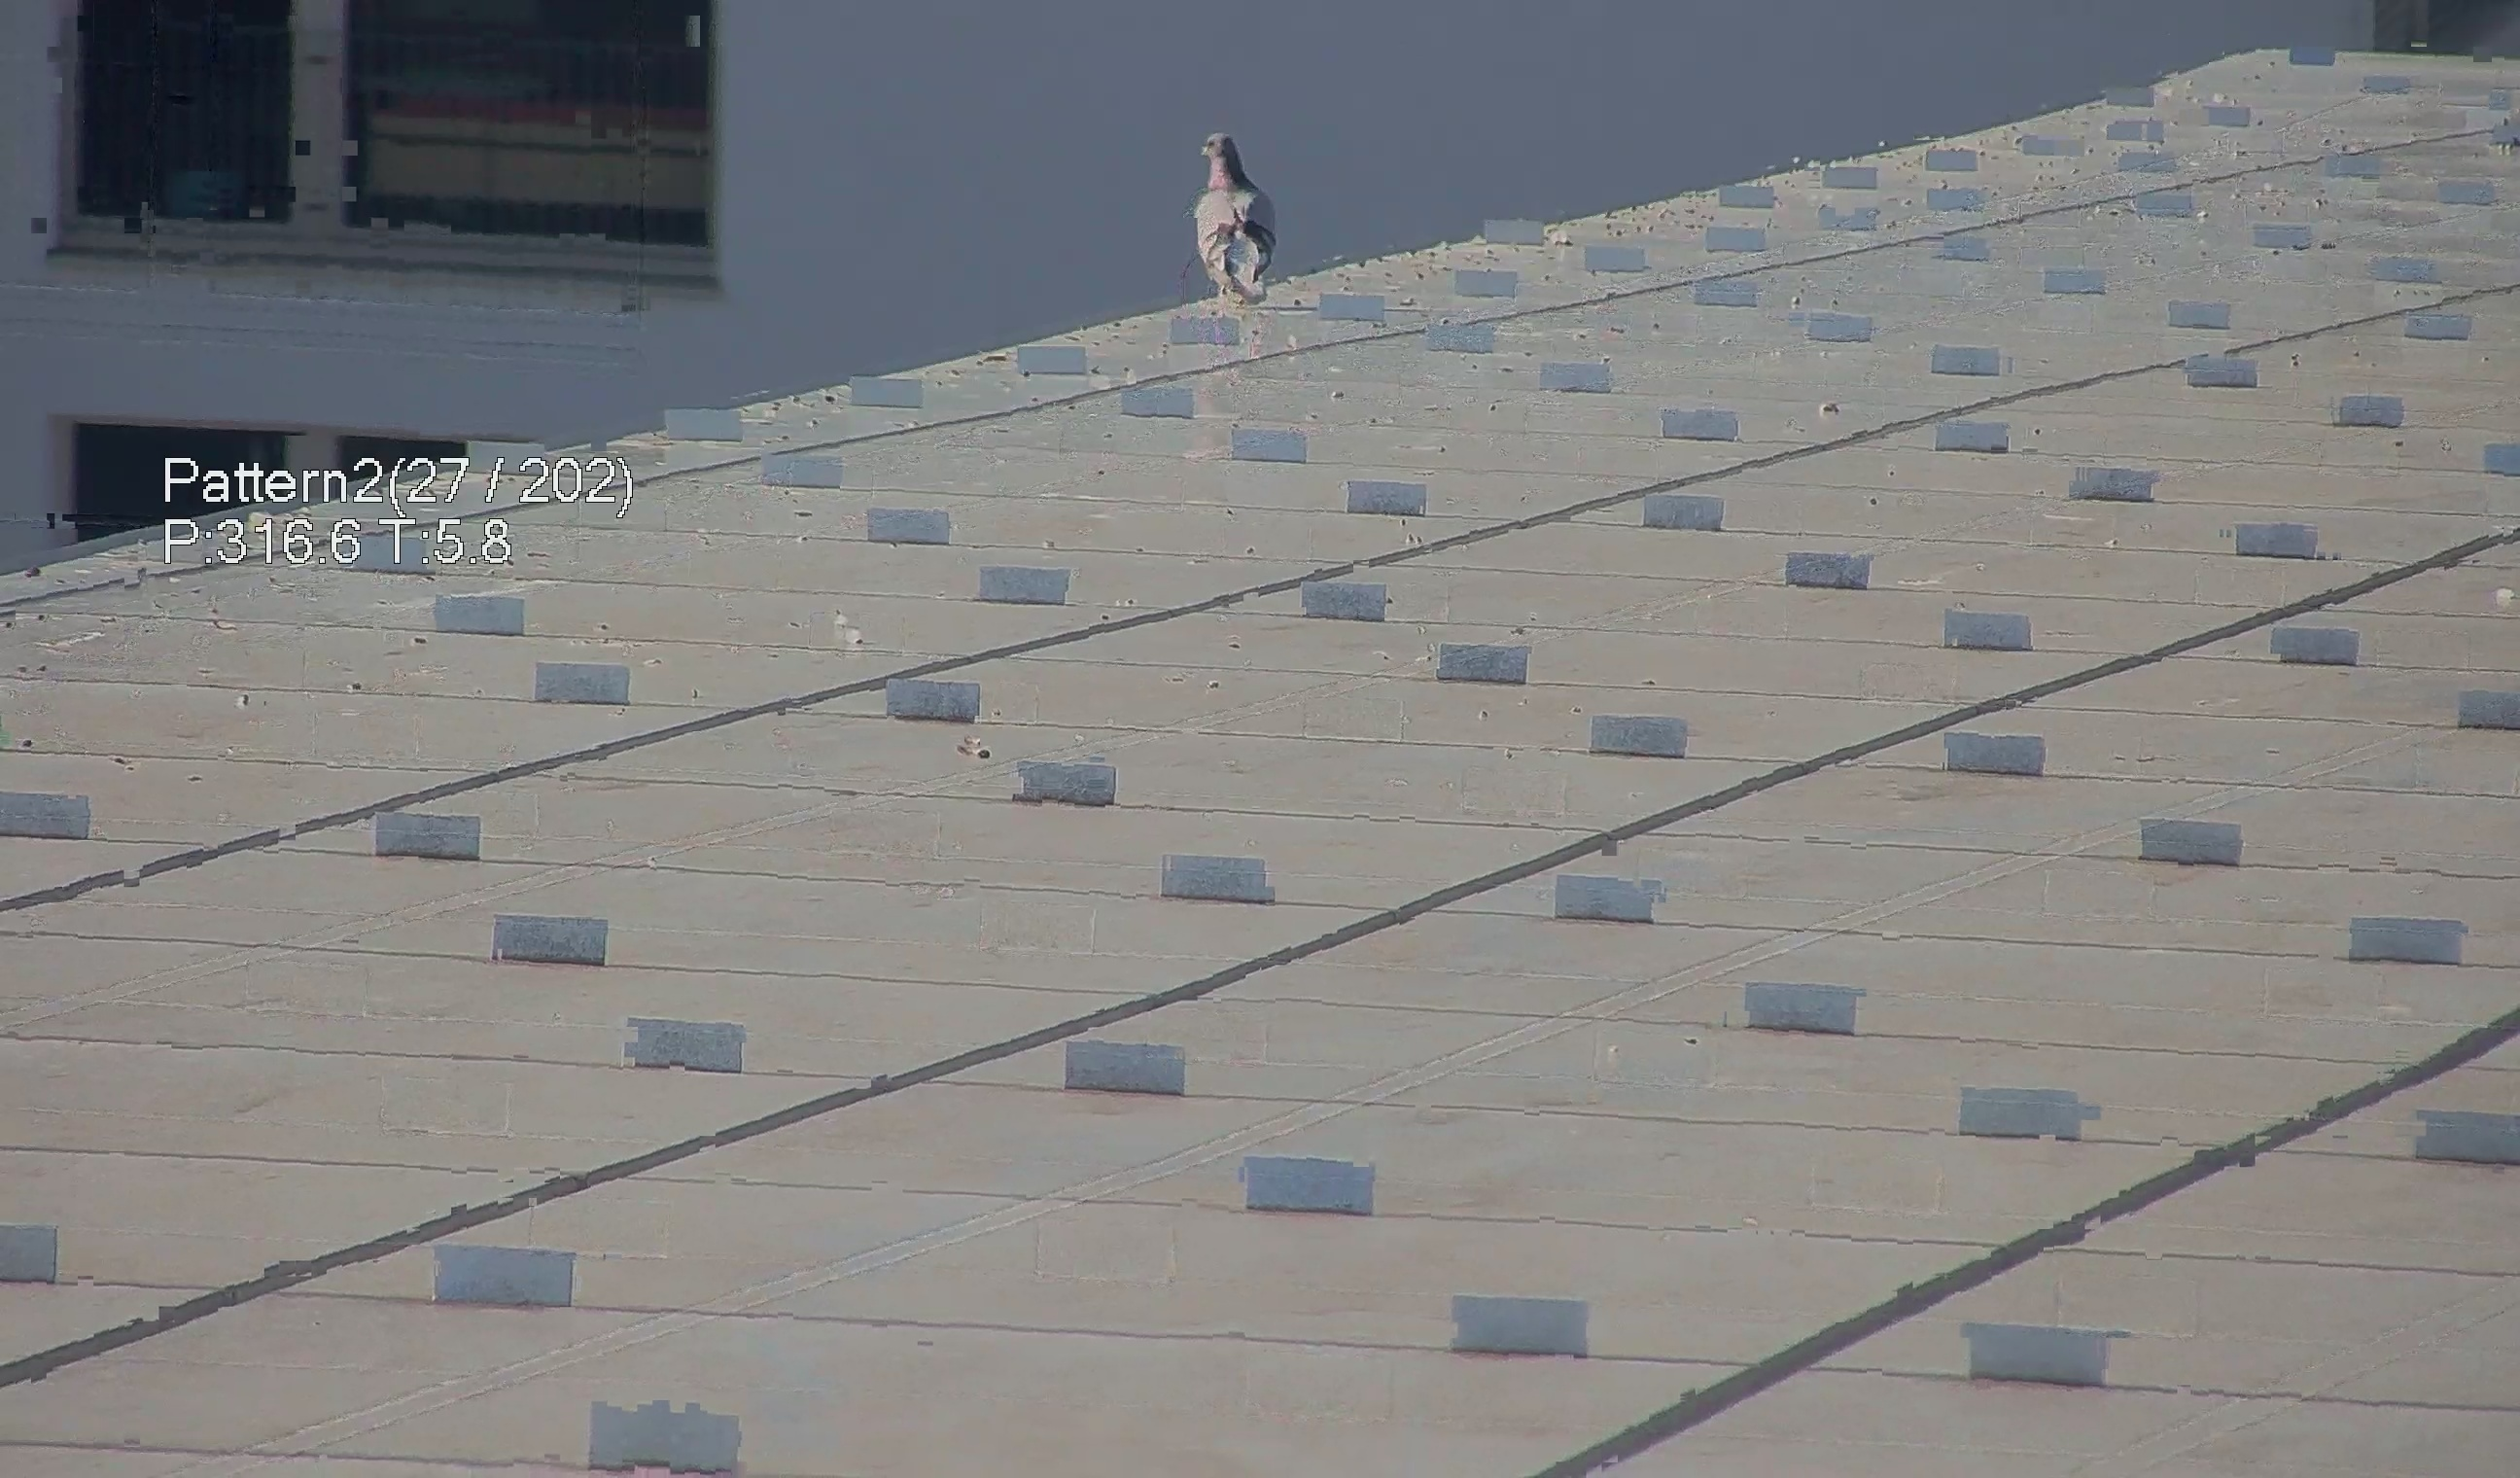Pigeon: (1173, 132, 1278, 318)
